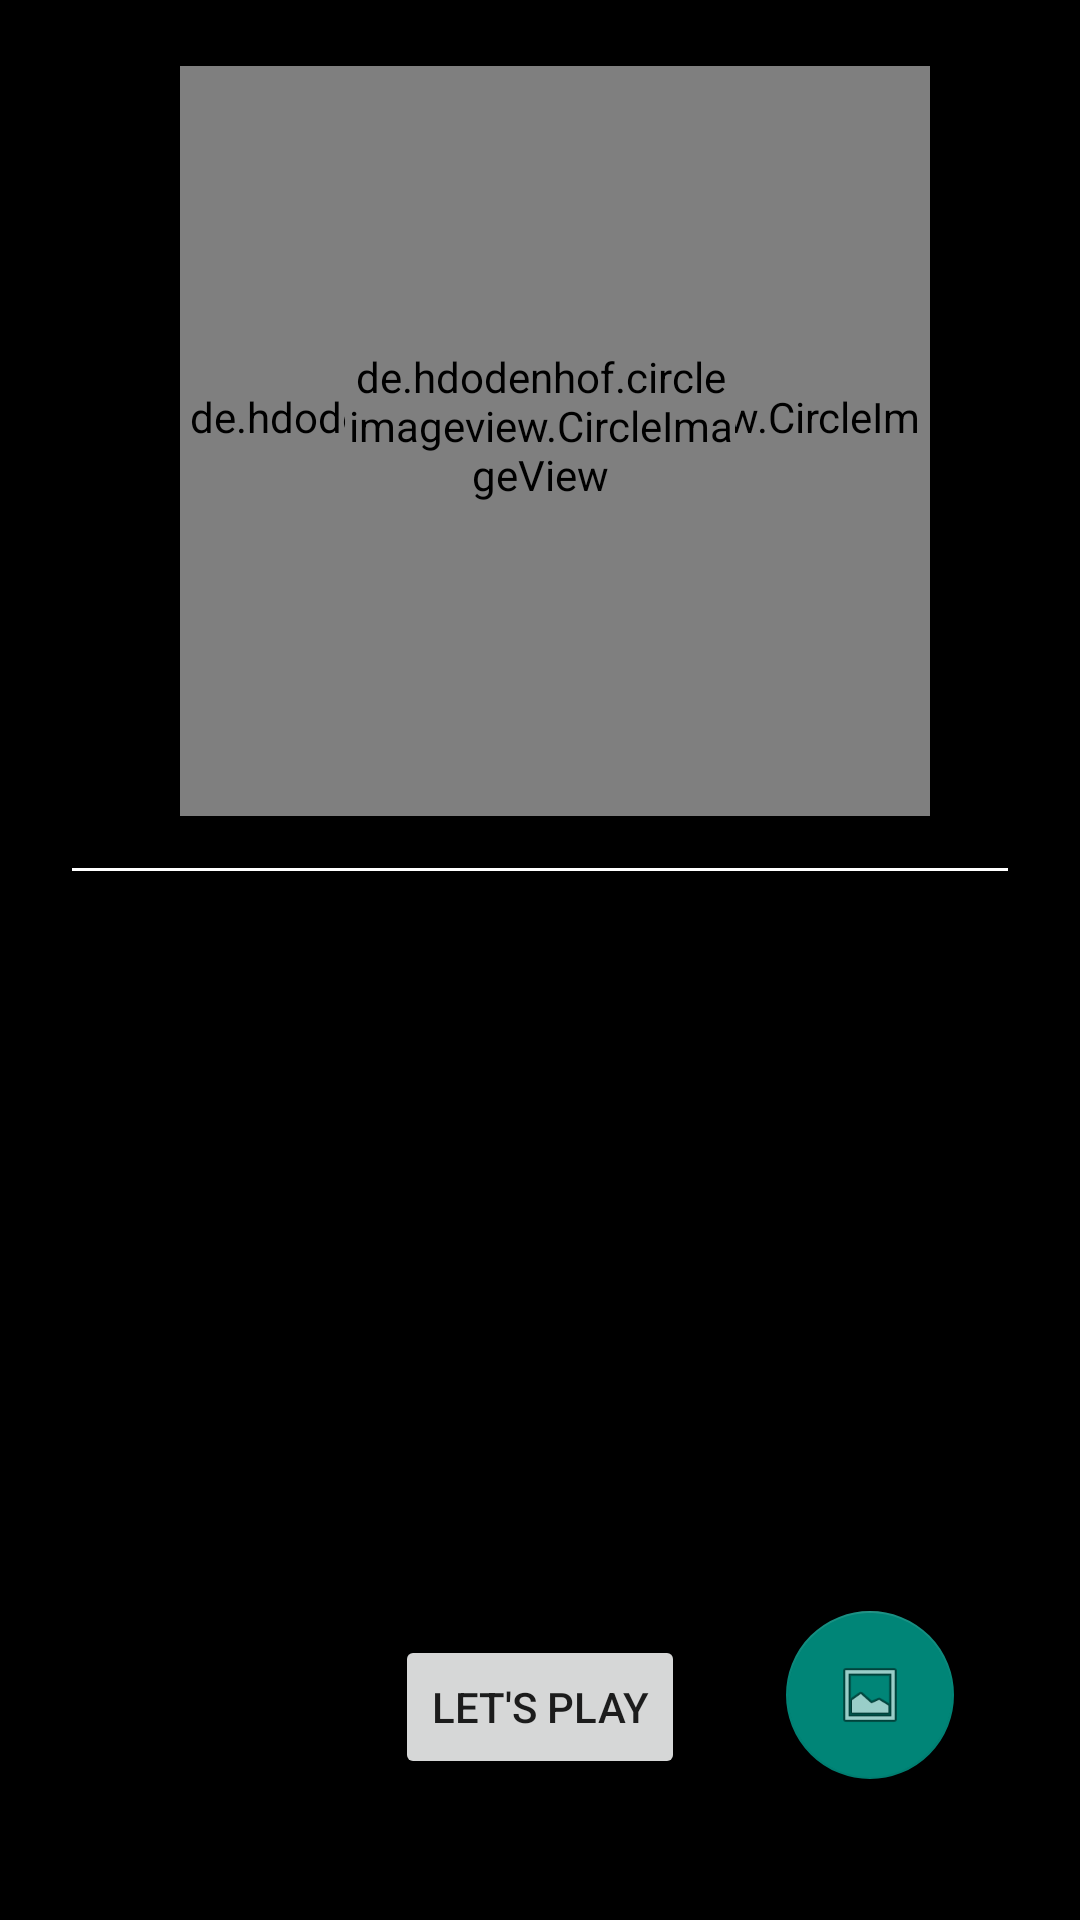

Screen size 1080×1920. Icon name, then its center in pixels as point (x, y):
gallery: point (870, 1695)
